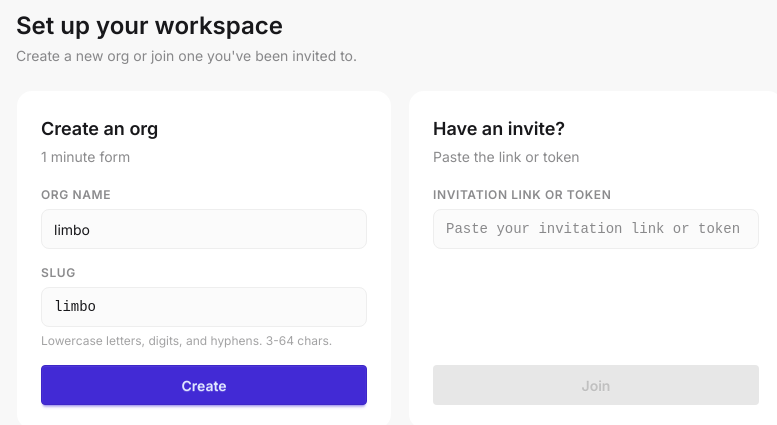
Test: Onboarding wizard › join branch: 410 shows invalid-token error
This screenshot has width=777, height=425.
Type "expiredtoken" into the field with placeholder "Paste your invitation link or token". click: (596,229)
box: [433,209,759,249]
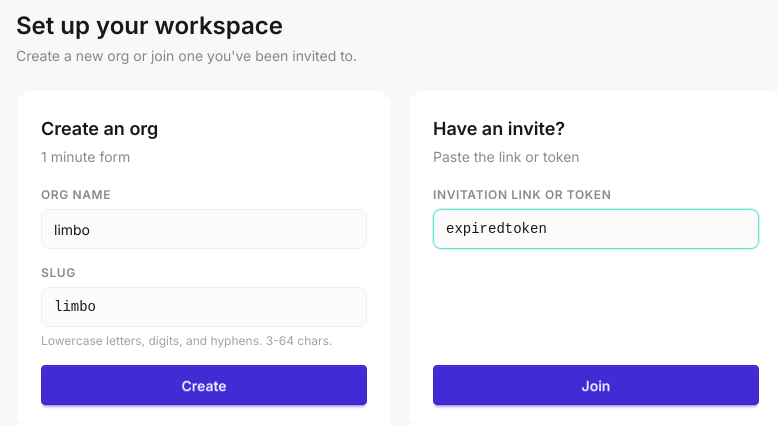
Click the button "Join". click: (596,385)
box: [433,365,759,405]
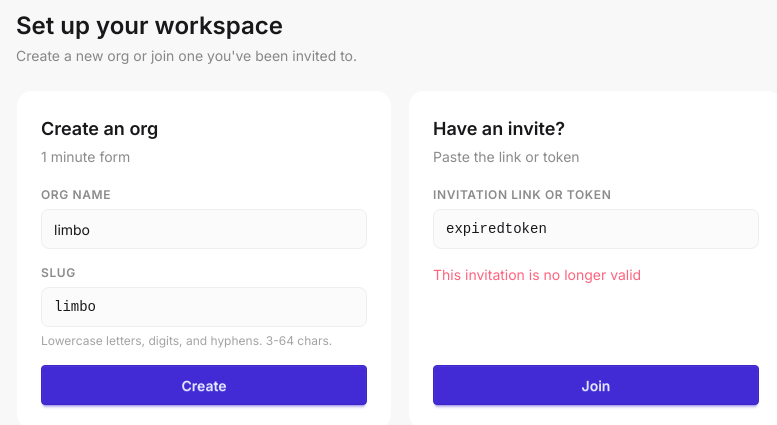
Check: the text "This invitation is no longer valid" is shown, box [433,266,641,283]
